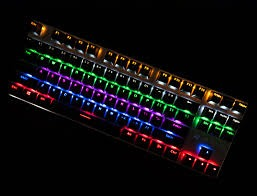keyboard: (5, 21, 251, 182)
